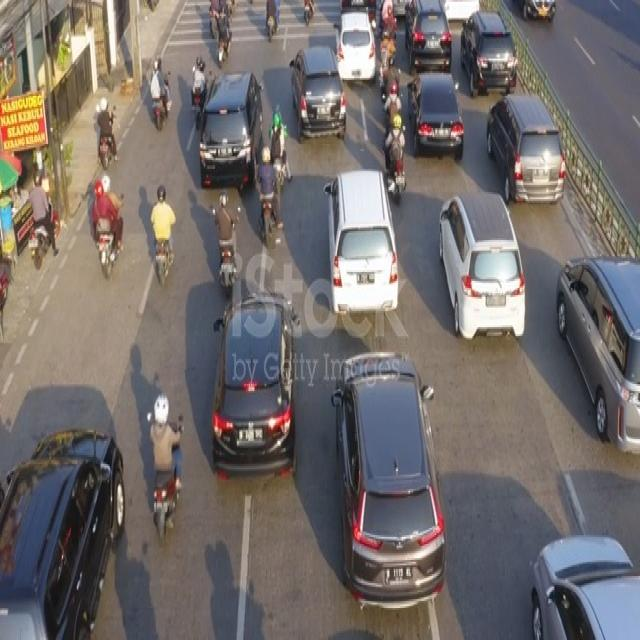Car: (332, 348, 446, 612), (0, 422, 122, 640), (210, 280, 296, 480), (556, 248, 640, 450), (434, 189, 525, 348), (524, 528, 640, 640), (324, 171, 397, 321), (482, 86, 568, 199), (202, 60, 262, 196), (292, 36, 346, 142), (411, 66, 463, 157), (462, 8, 519, 90), (399, 0, 453, 70), (337, 11, 375, 82)
Motorcycle: (145, 383, 183, 541), (90, 170, 126, 283), (212, 184, 244, 305), (26, 158, 56, 274), (254, 141, 282, 244), (148, 180, 174, 286), (384, 111, 411, 201), (148, 48, 173, 135), (96, 89, 119, 172), (187, 47, 210, 125), (268, 94, 288, 183), (213, 0, 232, 68), (378, 24, 397, 90), (385, 73, 402, 129), (264, 0, 281, 42)
